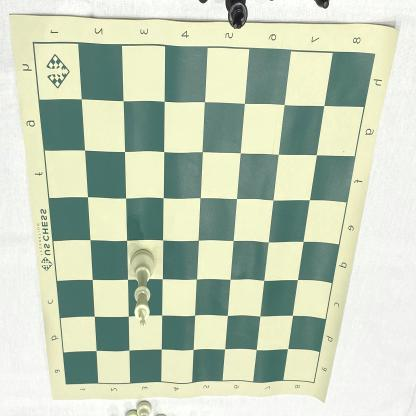white-king: (128, 247, 156, 329)
